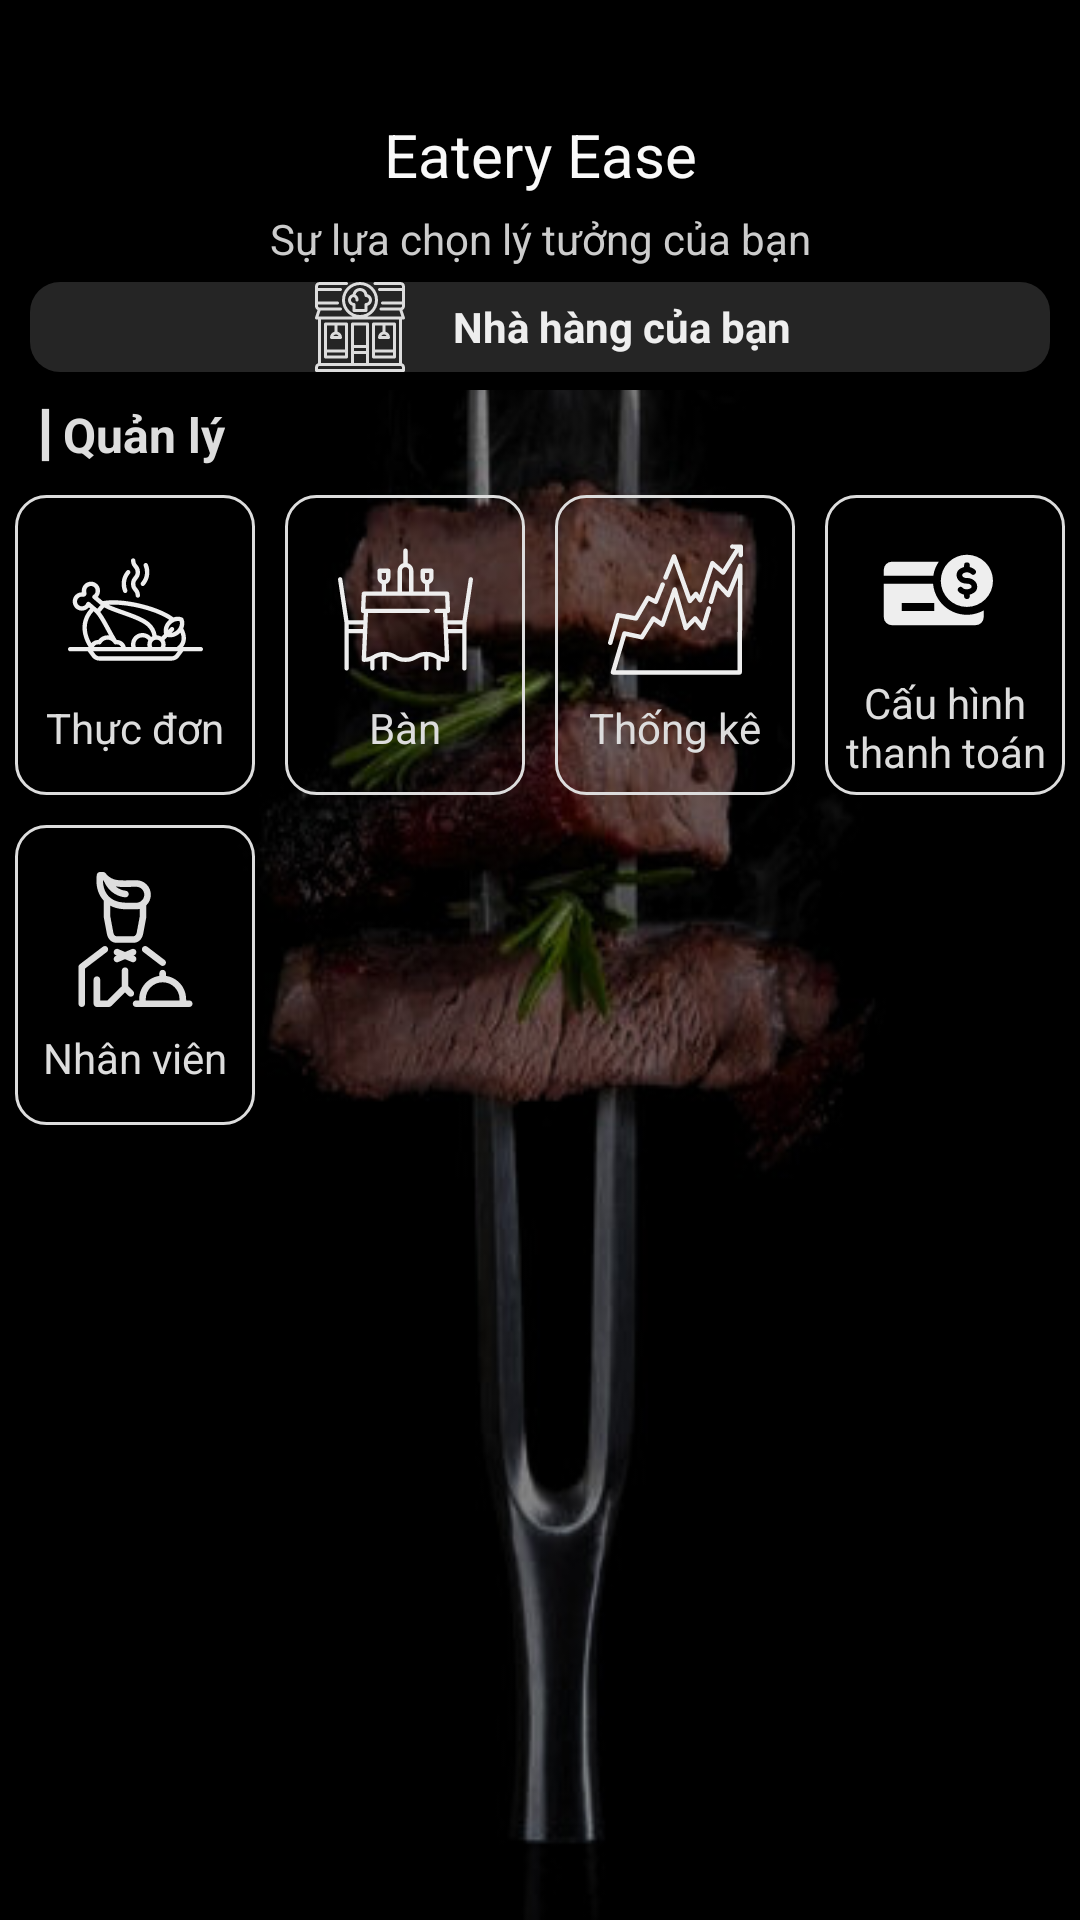

Icon click points for this 1080px×1920px phone screenshot, format point (x, y):
chart: point (675, 609)
dish: point (135, 609)
payment: point (938, 590)
restaurant: point (360, 327)
waiter: point (135, 939)
